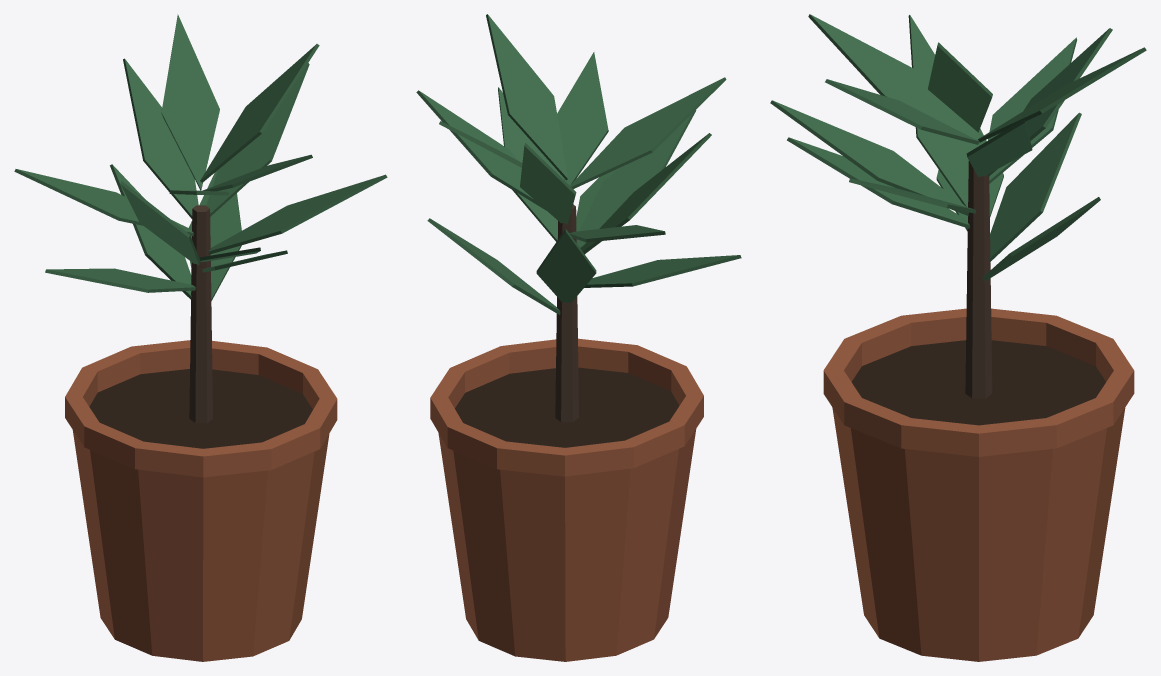
The model's file is plant.glb.
3 renders of one model, left to right at view 1: azimuth 30°, elevation 25°; view 2: azimuth 150°, elevation 25°; view 3: azimuth 270°, elevation 25°, orthographic. The views are drawn at different scales.
Visible parts, largest first — view 1: plant; view 2: plant; view 3: plant.
Boxes of the visible parts, x1=… form: plant: x1=14, y1=14, x2=387, y2=661; plant: x1=416, y1=14, x2=741, y2=661; plant: x1=770, y1=14, x2=1146, y2=661.
Bounding box in the file's own units: 0.6 × 1.1 × 0.6.
